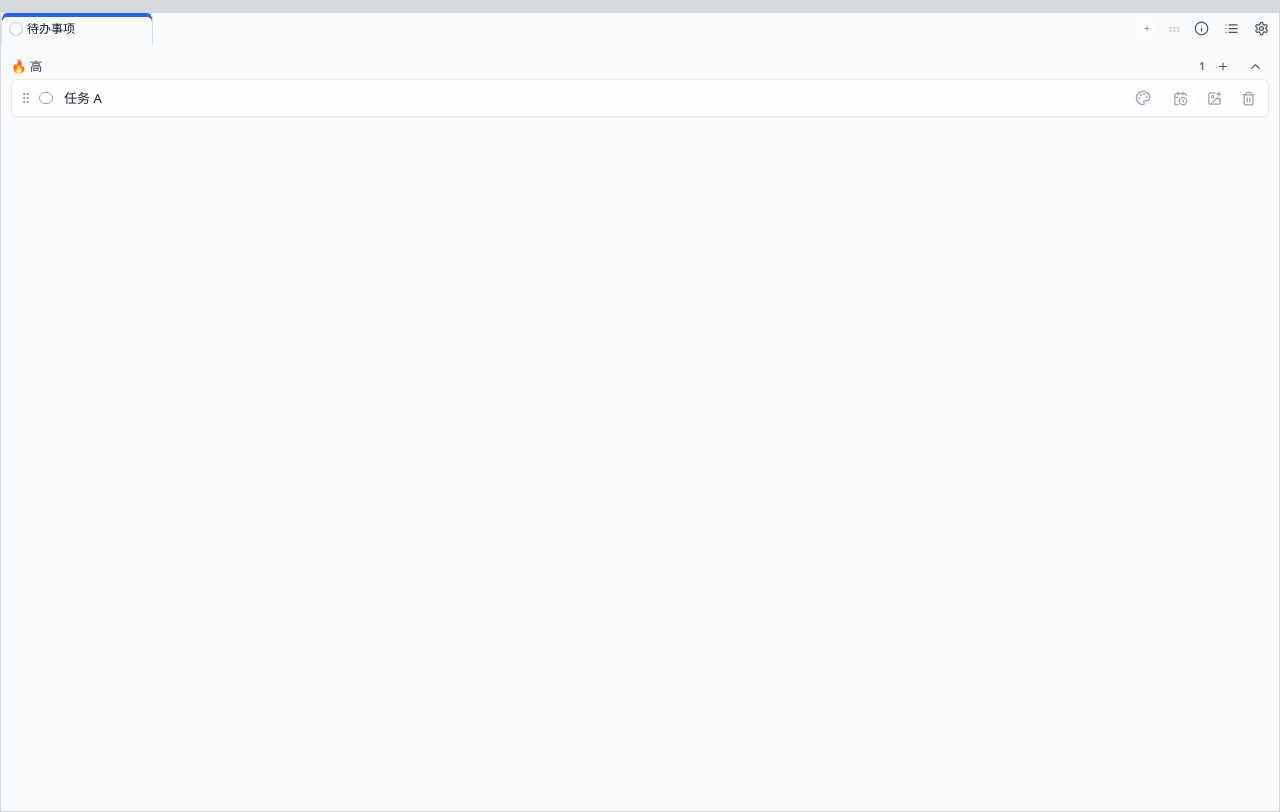
GitHub issues — todo controls › records completion time when a todo is completed
Click the button titled "标记为完成". click: coordinates (46, 98)
box: [39,92,53,104]
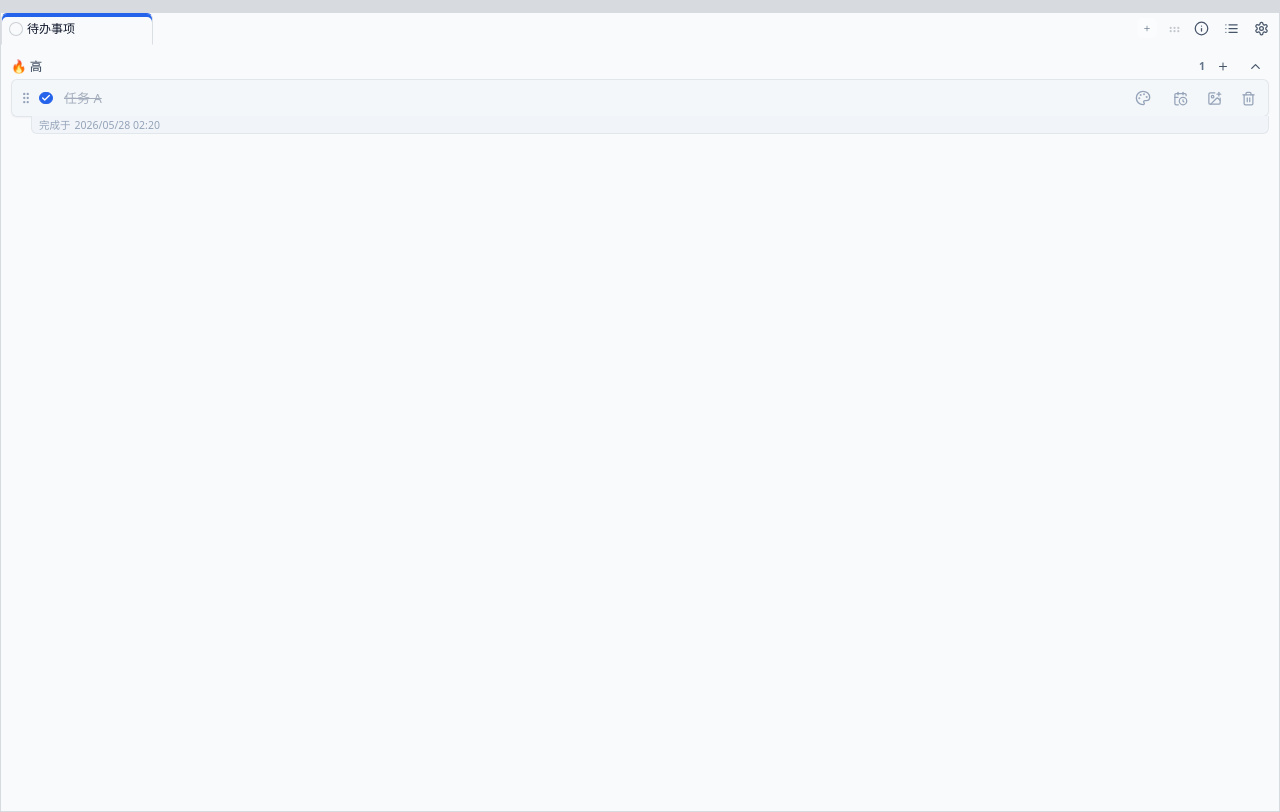
Now the text "完成于" is shown, box [39,120,70,130]
